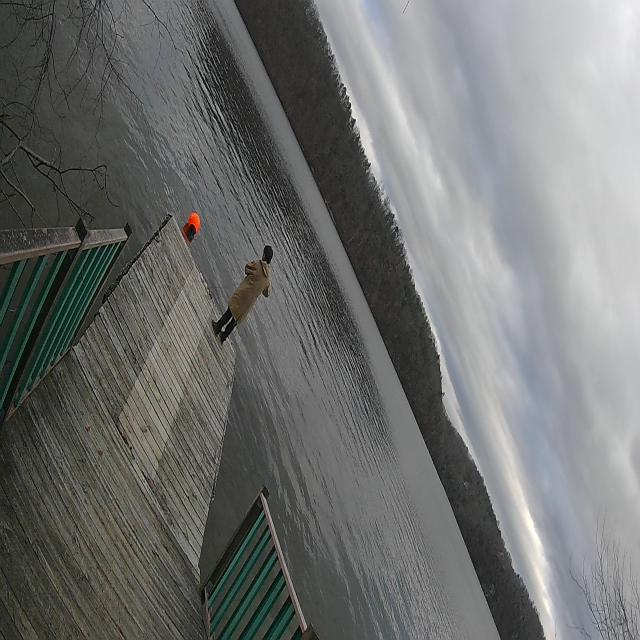Buoy: (186, 209, 204, 241)
